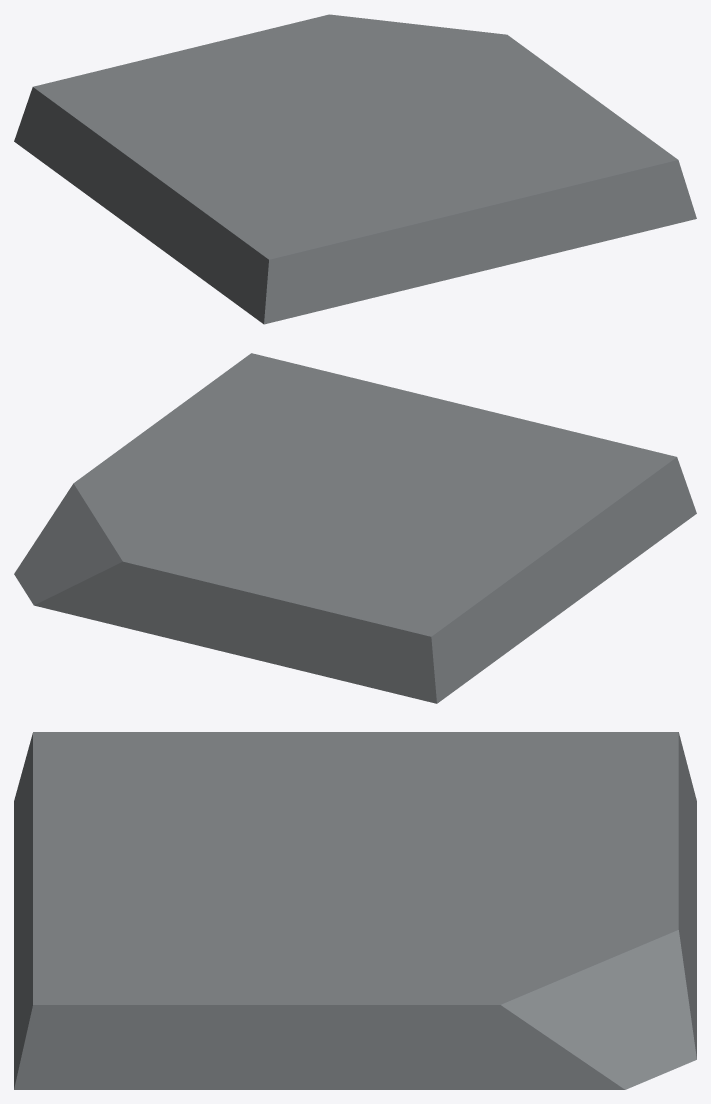
The model's file is Rock_Tile_m_03.fbx.
3 renders of one model, top to bottom at view 1: azimuth 30°, elevation 25°; view 2: azimuth 150°, elevation 25°; view 3: azimuth 270°, elevation 25°, orthographic. The views are drawn at different scales.
Visible parts, largest first — view 1: Rock_Tile_m_03; view 2: Rock_Tile_m_03; view 3: Rock_Tile_m_03.
Boxes of the visible parts, box(x1,y1,x2,y2) form: Rock_Tile_m_03: box(14, 14, 696, 324); Rock_Tile_m_03: box(14, 353, 696, 703); Rock_Tile_m_03: box(14, 732, 696, 1089).
Bounding box in the file's own units: 40 × 5 × 40.
